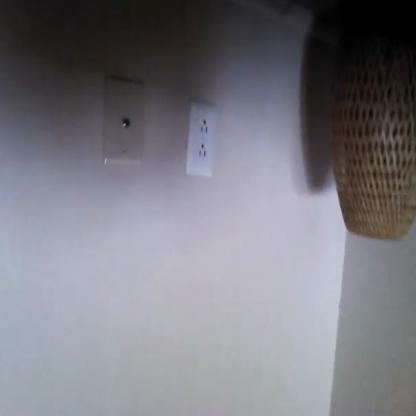OUTLET: (186, 103, 218, 176)
